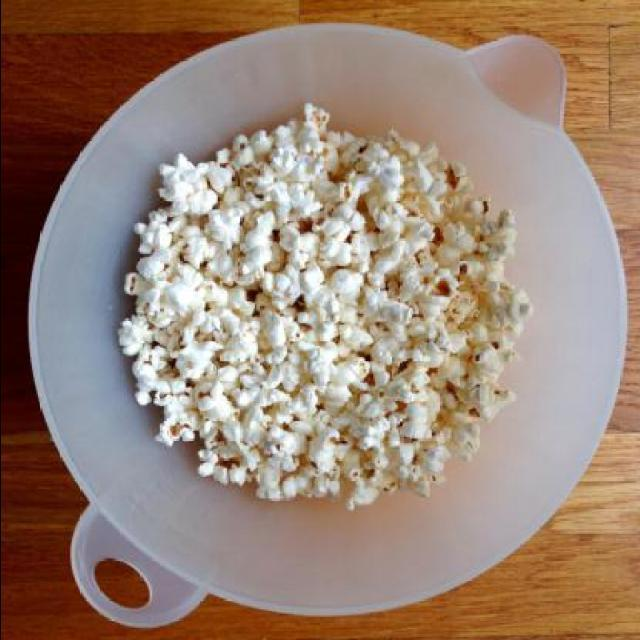Popcorn: (111, 103, 538, 514)
